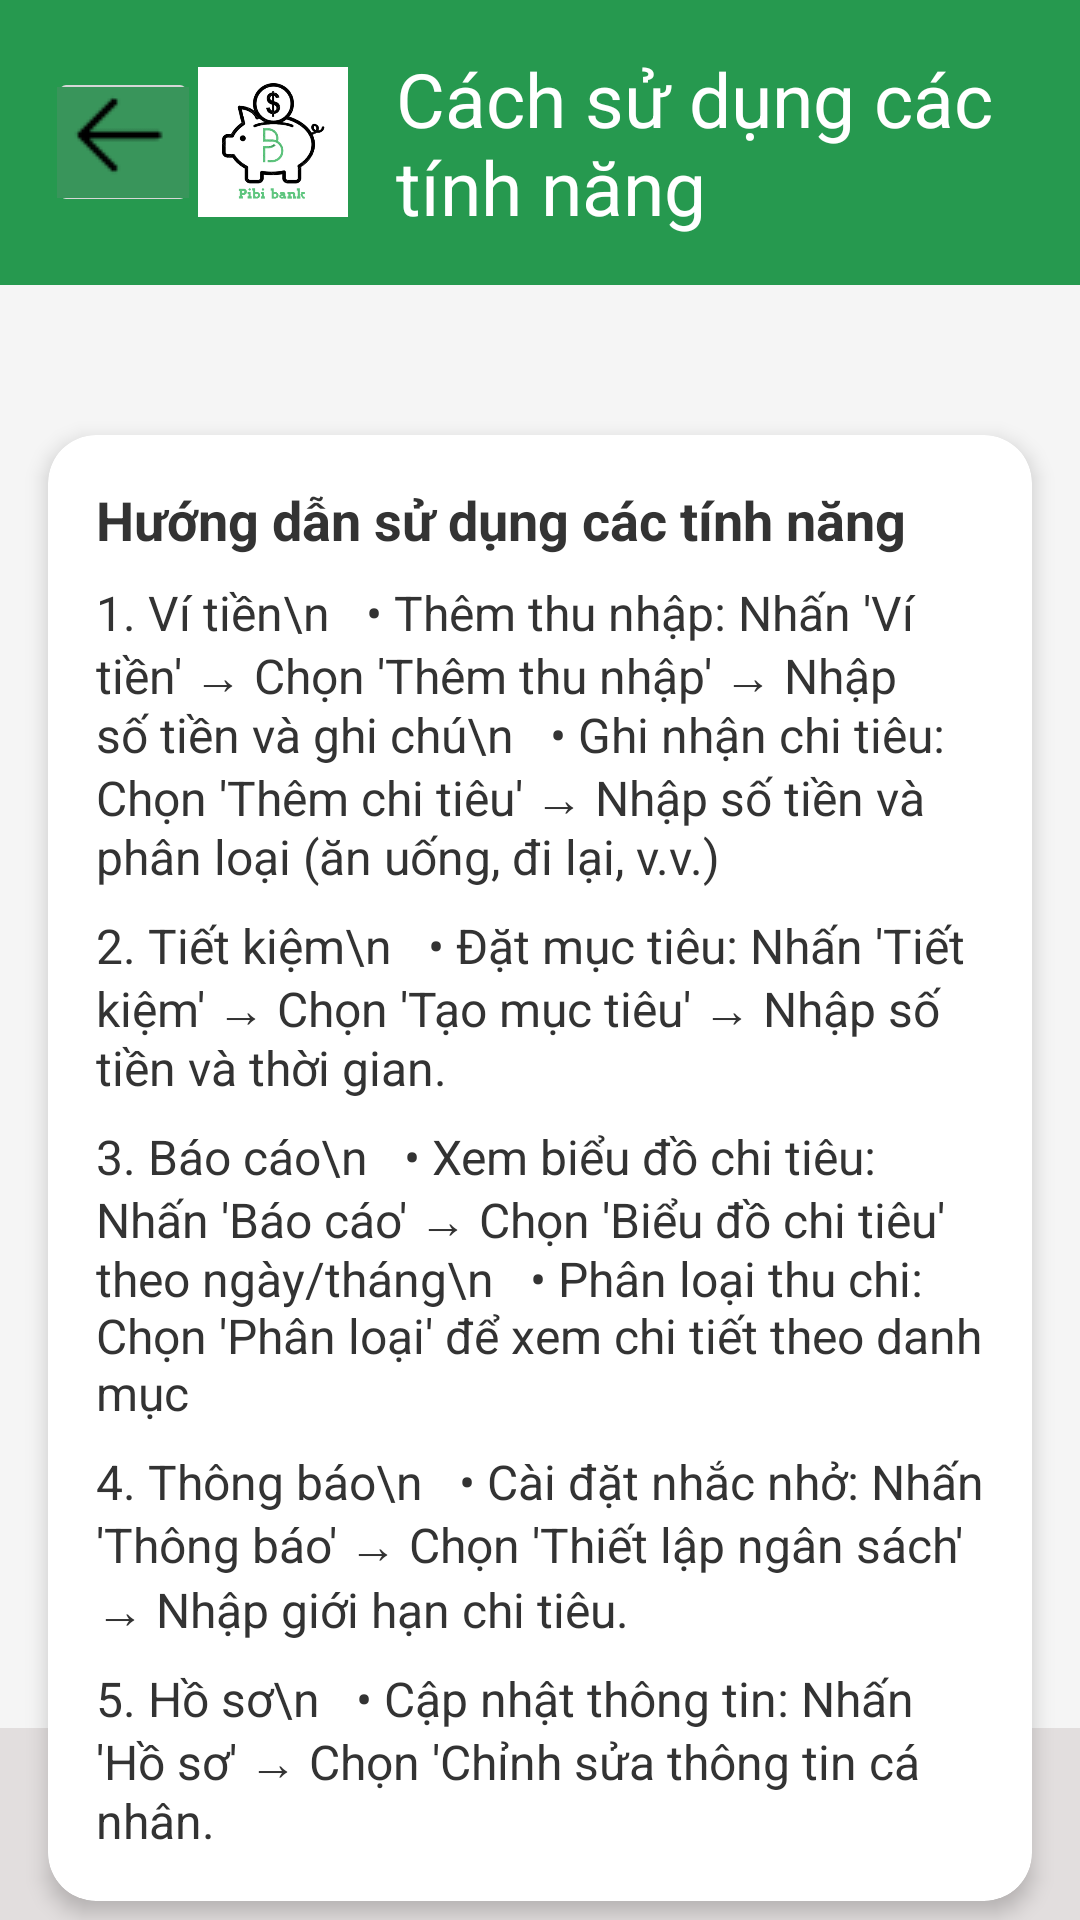

Screen size 1080w x 1920h. Icon name, then its box in pixels as (x1, y1, x2, y2):
Back: (57, 85, 189, 199)
